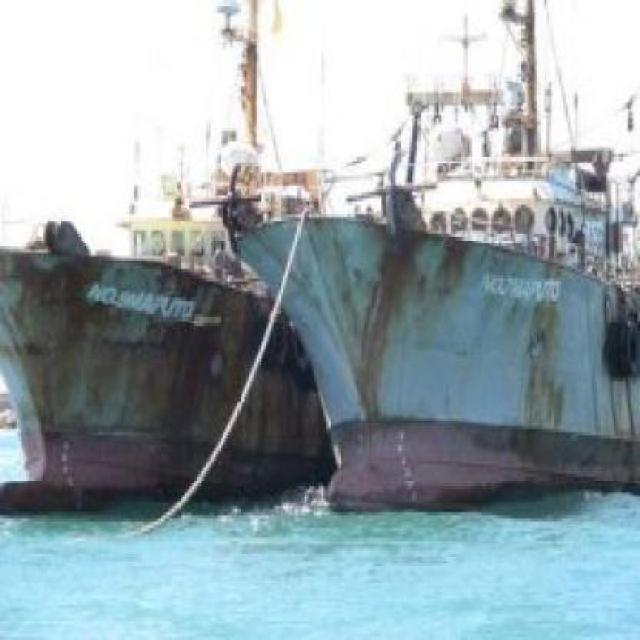fish-b: (223, 1, 639, 546), (1, 1, 342, 536)
